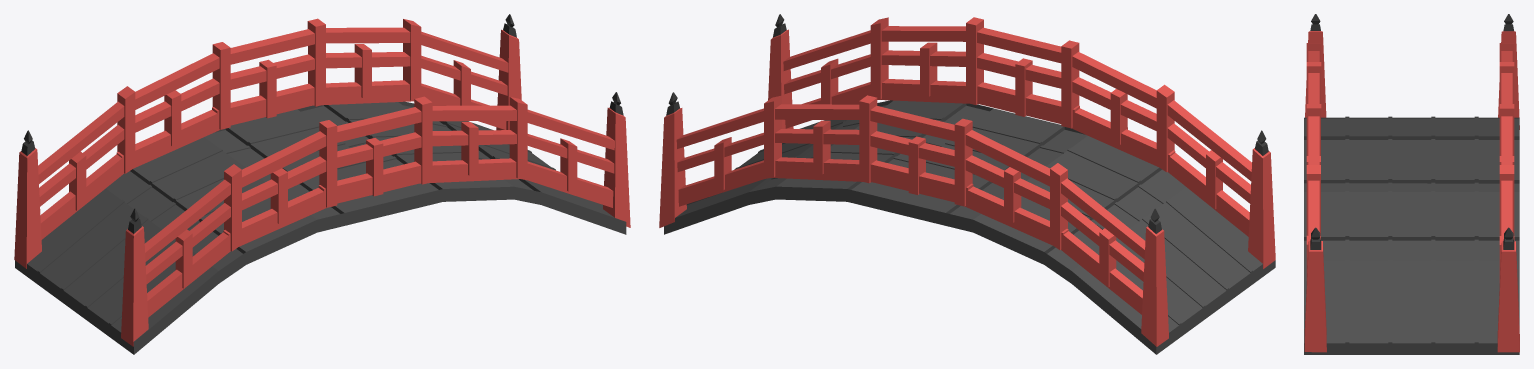
Rendered from Bridge.fbx.
The picture shows the model from 3 angles, left to right: view 1: azimuth 30°, elevation 25°; view 2: azimuth 150°, elevation 25°; view 3: azimuth 270°, elevation 25°; orthographic projection. The views are drawn at different scales.
Parts seen in each view (by area): view 1: Cube_005_Material_003_0, Cube_005_Material_007_0, Cube_005_Material_002_0; view 2: Cube_005_Material_003_0, Cube_005_Material_007_0, Cube_005_Material_002_0; view 3: Cube_005_Material_007_0, Cube_005_Material_003_0, Cube_005_Material_002_0.
Part boxes in pixels (x1,y1,x2,y2): Cube_005_Material_003_0: (14,18,630,346); Cube_005_Material_007_0: (15,101,626,354); Cube_005_Material_002_0: (21,14,623,233); Cube_005_Material_003_0: (659,17,1275,346); Cube_005_Material_007_0: (664,100,1275,354); Cube_005_Material_002_0: (666,14,1268,233); Cube_005_Material_007_0: (1304,116,1519,354); Cube_005_Material_003_0: (1304,31,1519,352); Cube_005_Material_002_0: (1310,14,1514,249).
Bounding box in the file's own units: 1364 × 468 × 566.
